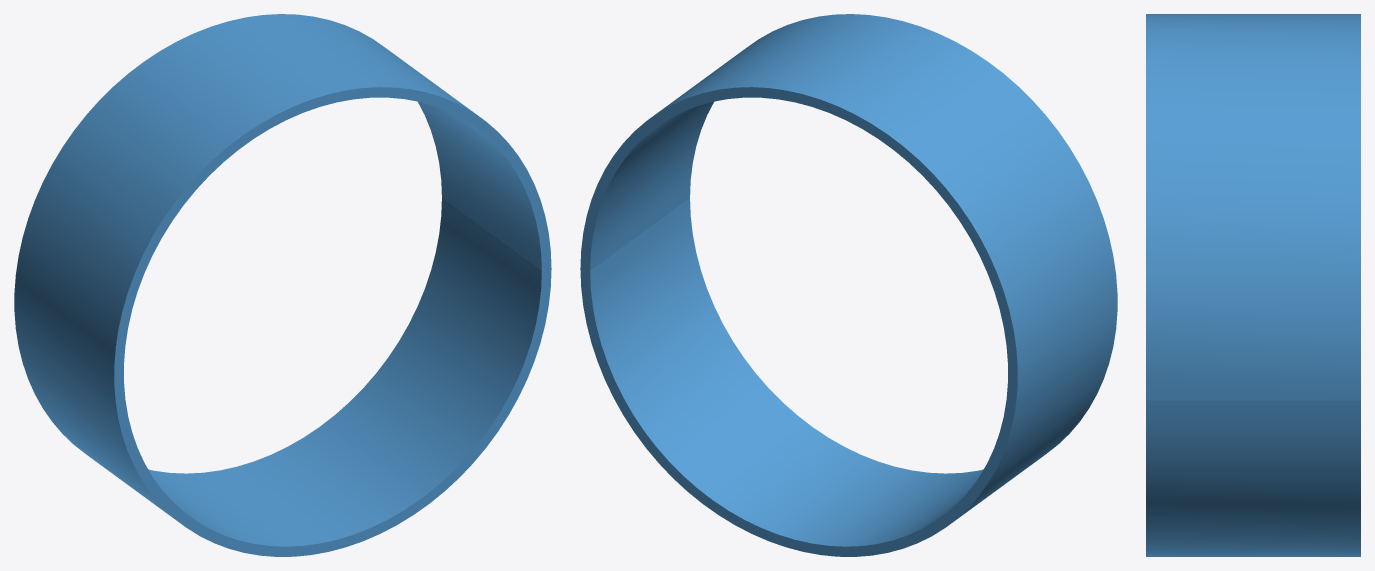
The model's file is 60_tubo_base.glb.
The picture shows the model from 3 angles, left to right: view 1: azimuth 30°, elevation 25°; view 2: azimuth 150°, elevation 25°; view 3: azimuth 270°, elevation 25°; orthographic projection. The views are drawn at different scales.
Visible parts, largest first — view 1: Part 1; view 2: Part 1; view 3: Part 1.
Part boxes in pixels (left/top/right/bottom): Part 1: left=14, top=14, right=551, bottom=556; Part 1: left=580, top=14, right=1117, bottom=556; Part 1: left=1146, top=14, right=1360, bottom=556.
Bounding box in the file's own units: 63.18 × 63.19 × 25.
